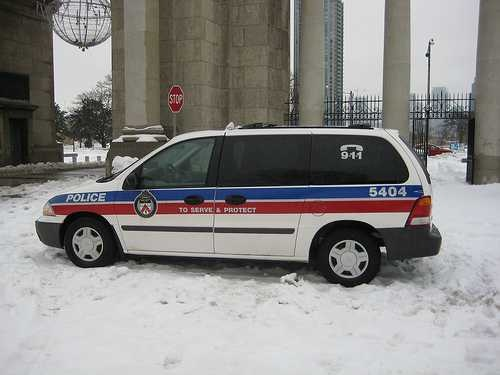Police Car: (48, 113, 447, 306)
